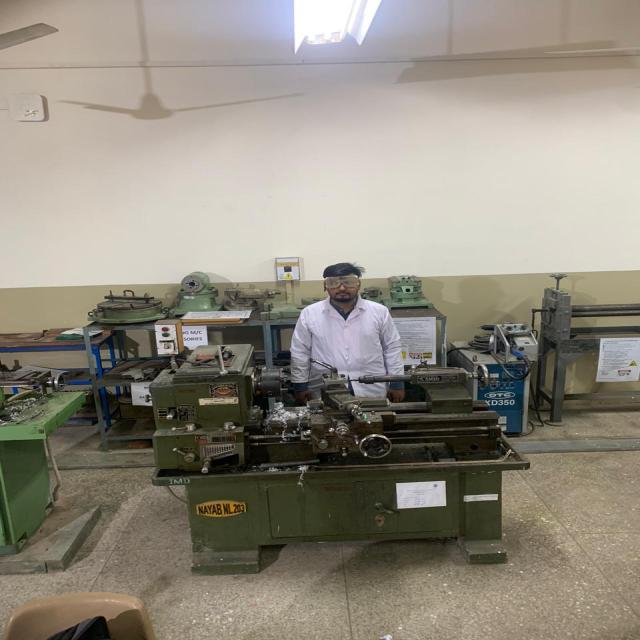googles: (323, 274, 362, 288)
labcoat: (288, 299, 410, 429)
